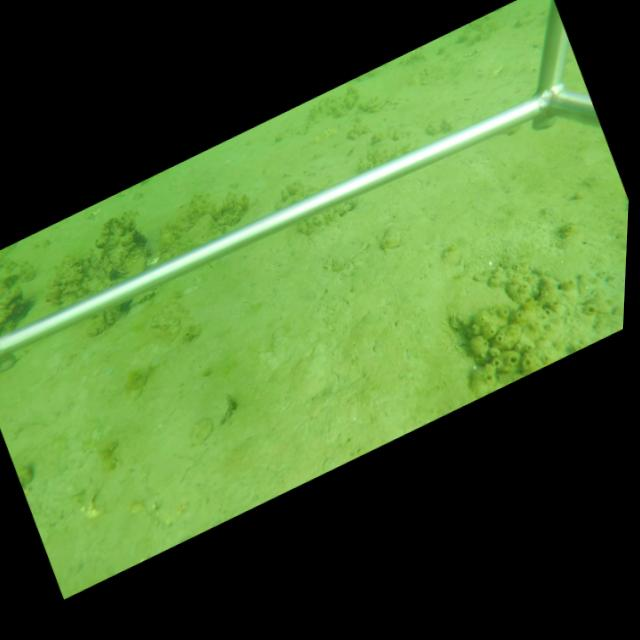Oyster-Closed: (214, 393, 236, 425)
Oyster-Indeterminate: (160, 211, 215, 263)
